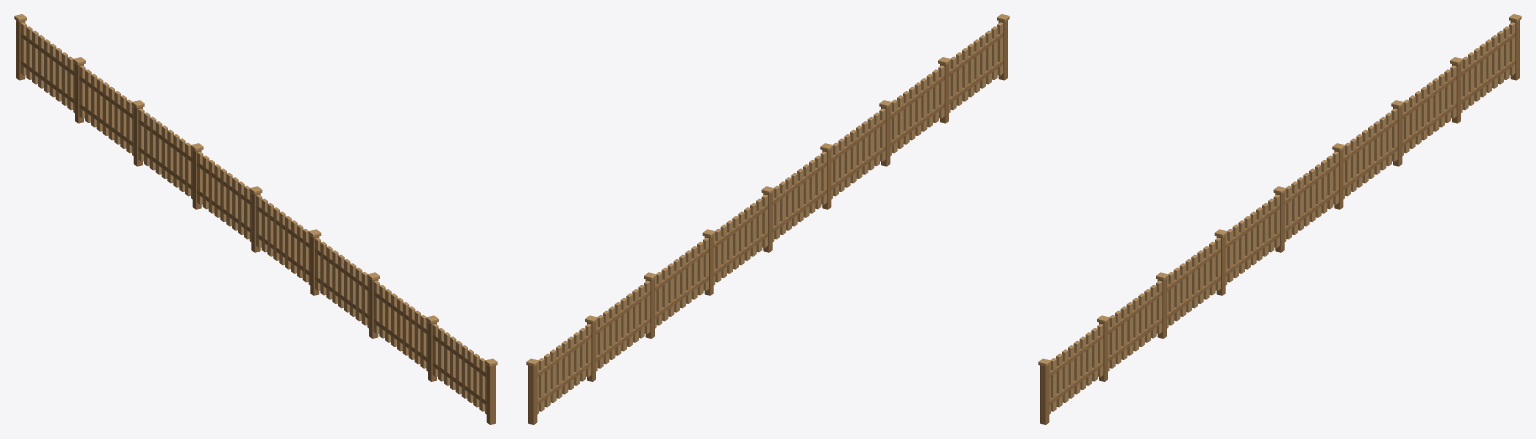
Rendered from SM_PlayerHouse_Fence_SharedBoundary.fbx.
3 renders of one model, left to right at view 1: azimuth 30°, elevation 25°; view 2: azimuth 150°, elevation 25°; view 3: azimuth 330°, elevation 25°, orthographic.
Visible parts, largest first — view 1: SM_PlayerHouse_Fence_SharedBoundary; view 2: SM_PlayerHouse_Fence_SharedBoundary; view 3: SM_PlayerHouse_Fence_SharedBoundary.
Part boxes in pixels (x1=…): SM_PlayerHouse_Fence_SharedBoundary: x1=14, y1=14, x2=497, y2=424; SM_PlayerHouse_Fence_SharedBoundary: x1=526, y1=14, x2=1009, y2=424; SM_PlayerHouse_Fence_SharedBoundary: x1=1038, y1=14, x2=1521, y2=424.
Size of what is drawn, in the model's own units: 18 by 1778 by 128.
